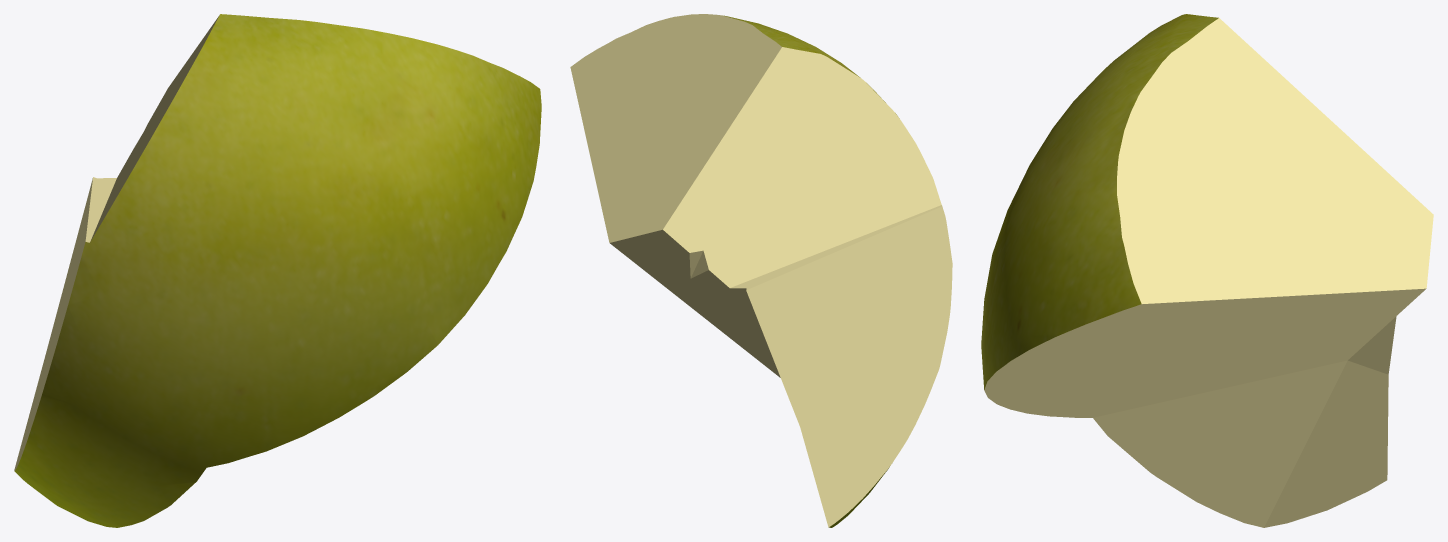
The model's file is SM_Consumable_Apple_01_002.fbx.
3 views of the same model, side by side, from view 1: azimuth 30°, elevation 25°; view 2: azimuth 150°, elevation 25°; view 3: azimuth 270°, elevation 25° (orthographic). The views are drawn at different scales.
Parts seen in each view (by area): view 1: SM_Consumable_Apple_01.002; view 2: SM_Consumable_Apple_01.002; view 3: SM_Consumable_Apple_01.002.
Part boxes in pixels (<box>): SM_Consumable_Apple_01.002: <box>14,14,541,527</box>; SM_Consumable_Apple_01.002: <box>570,14,952,527</box>; SM_Consumable_Apple_01.002: <box>981,14,1433,527</box>.
Size of the model in its own units: 0.0606 by 0.0626 by 0.0458.
